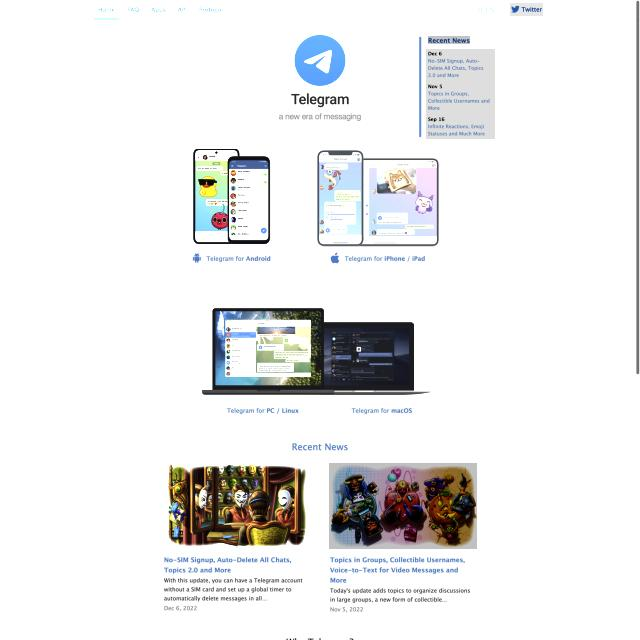CheckBox: (510, 3, 543, 16)
QR code: (426, 49, 495, 139)
alert: (474, 4, 503, 15)
bag: (0, 0, 636, 21)
breadcrumbs: (428, 36, 470, 44)
copy: (201, 307, 431, 396), (329, 463, 477, 549), (166, 462, 307, 547), (316, 150, 439, 246), (192, 150, 270, 248)
date picker: (293, 34, 348, 87)
decoration: (91, 0, 226, 20)
image: (289, 92, 352, 109)
